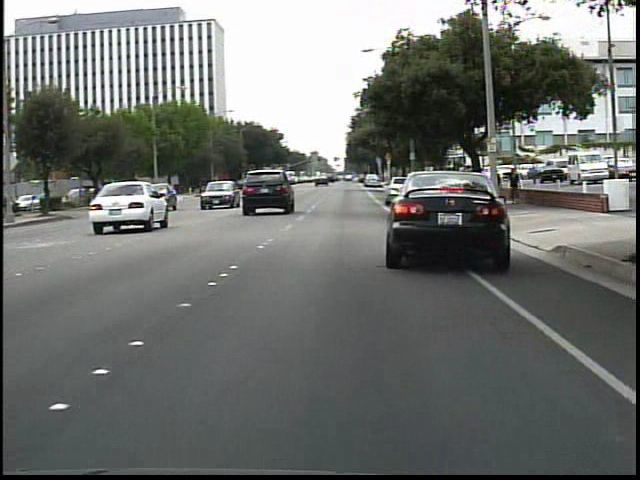person: (506, 164, 525, 207), (491, 167, 507, 205)
